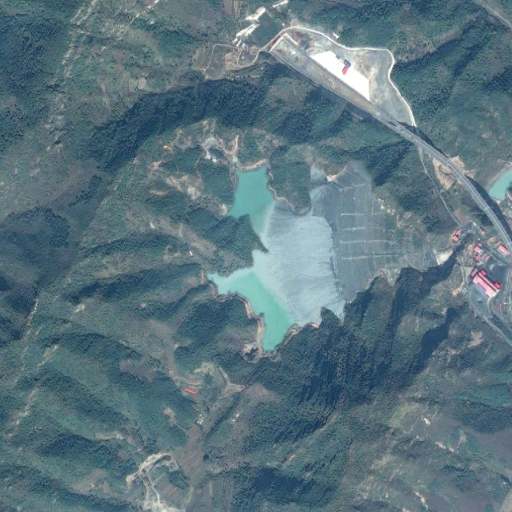tp: (203, 165, 437, 352)
